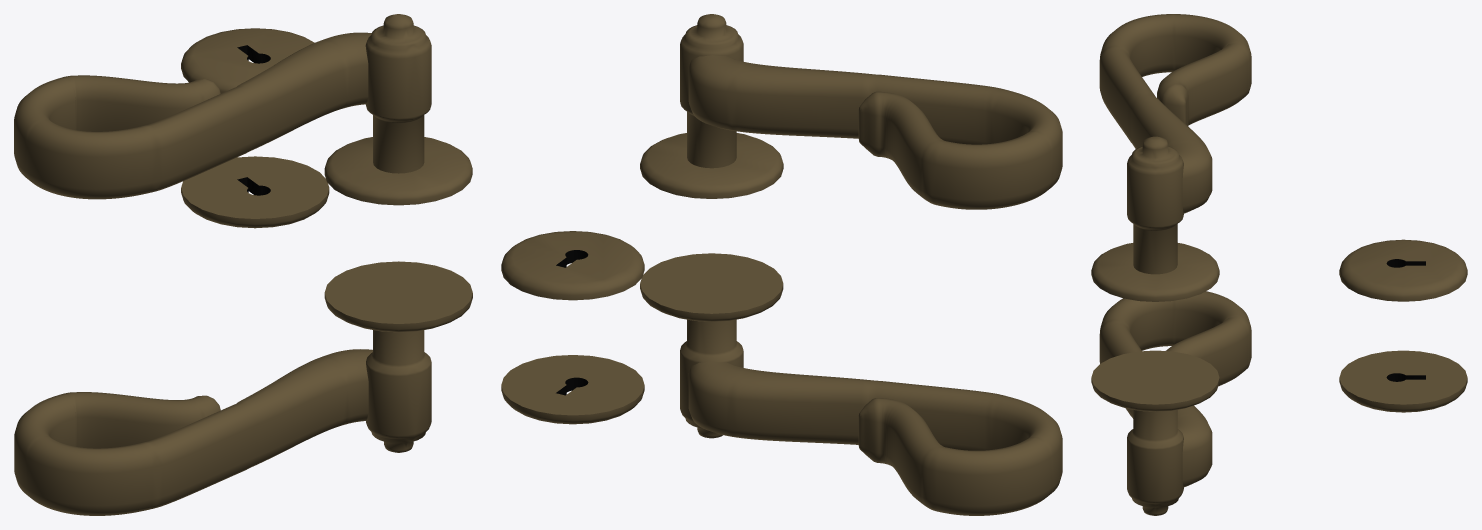
File: maniglia.obj
3 renders of one model, left to right at view 1: azimuth 30°, elevation 25°; view 2: azimuth 150°, elevation 25°; view 3: azimuth 270°, elevation 25°, orthographic. The views are drawn at different scales.
Visible parts, largest first — view 1: object; view 2: object; view 3: object.
Boxes of the visible parts, x1=… form: object: x1=14, y1=14, x2=472, y2=515; object: x1=501, y1=14, x2=1062, y2=515; object: x1=1091, y1=14, x2=1467, y2=515.
Size of the model in its own units: 0.1389 by 0.1351 by 0.1228.
